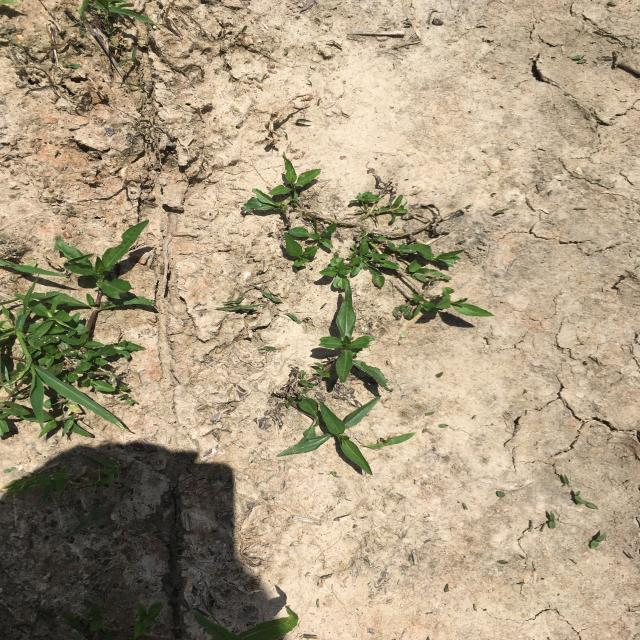Eclipta: (245, 158, 495, 319), (13, 220, 156, 404), (276, 282, 388, 475)
